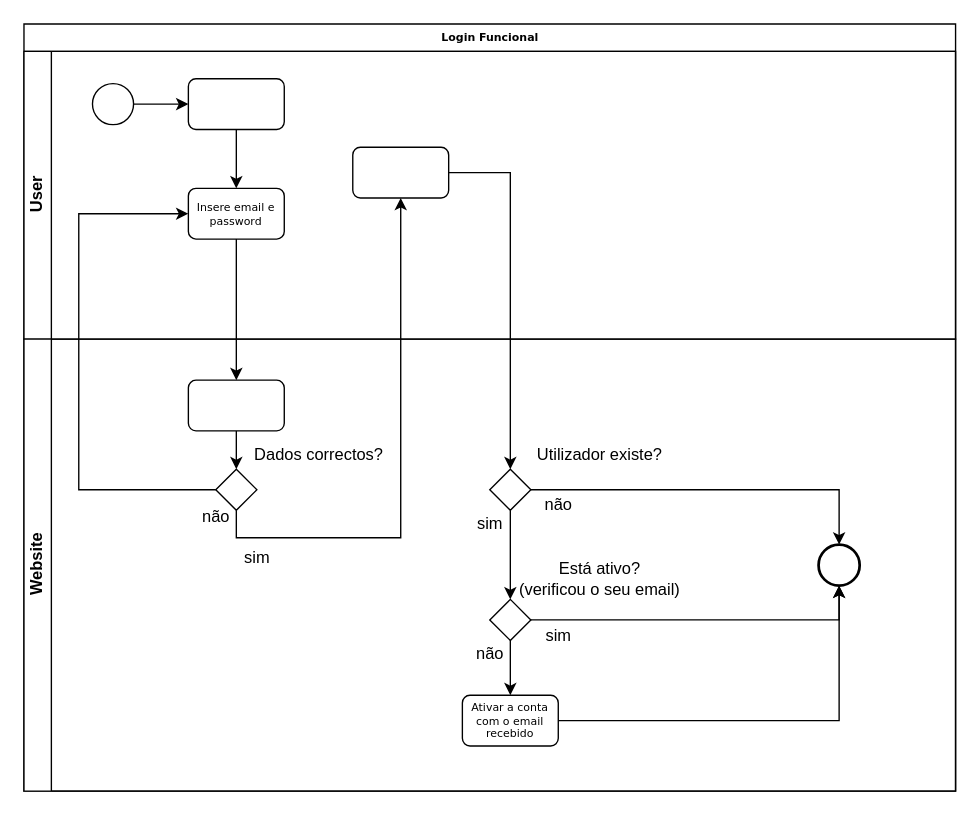
Some shapes in this 980 by 815 pixel diagram are drawn without their labels. The shapes that lost their labels are listed below. From the top down, each one's centre as x and y in pixels, then its label:
point 235,103: Clica em formulário de login
point 400,172: clica em "Login"
point 235,405: Valida dados (estrtura de email, password...)
